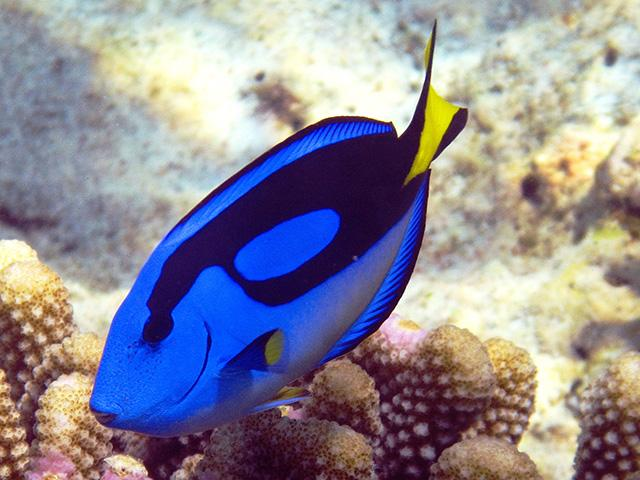Mulut: (66, 378, 132, 450)
Sirip Anal: (318, 166, 438, 377)
Sirip Dada: (200, 319, 292, 397)
Sirip Ekor: (396, 11, 482, 201)
Sirip Perut: (226, 378, 328, 428)
Sirip Punggung: (158, 108, 410, 252)
